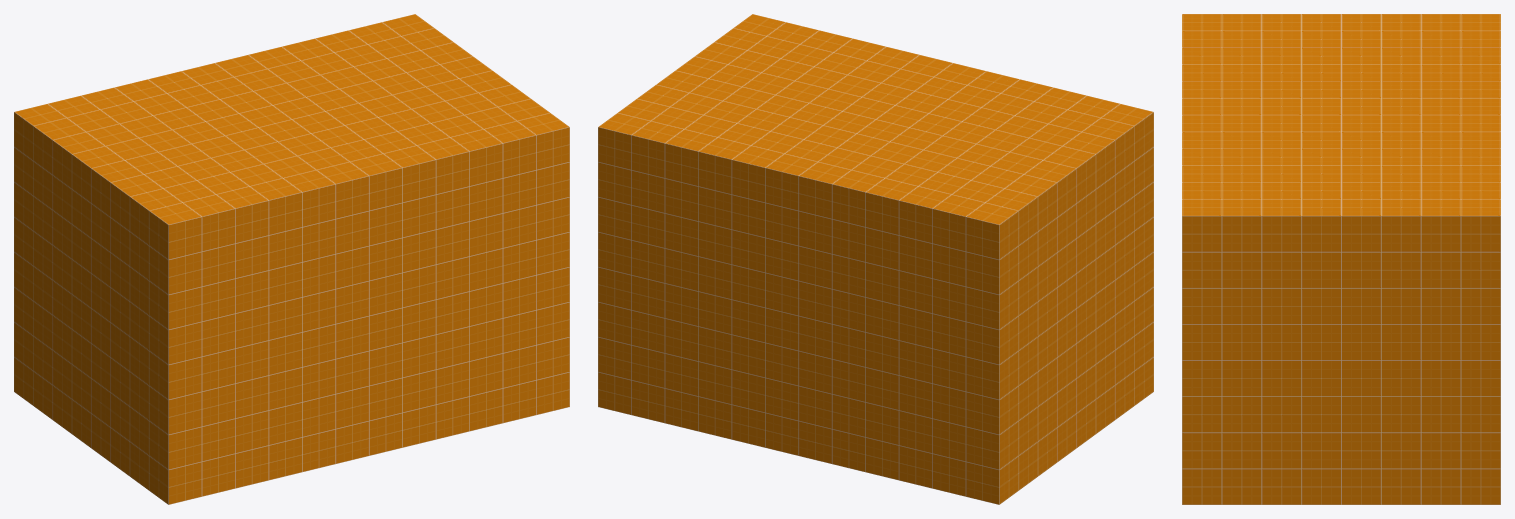
Rendered from Block_12x8x8.obj.
3 views of the same model, side by side, from view 1: azimuth 30°, elevation 25°; view 2: azimuth 150°, elevation 25°; view 3: azimuth 270°, elevation 25° (orthographic). The views are drawn at different scales.
Visible parts, largest first — view 1: Block_12x8x8_Cube.251; view 2: Block_12x8x8_Cube.251; view 3: Block_12x8x8_Cube.251.
Boxes of the visible parts, box(x1,y1,x2,y2) form: Block_12x8x8_Cube.251: box(14, 14, 569, 504); Block_12x8x8_Cube.251: box(598, 14, 1153, 504); Block_12x8x8_Cube.251: box(1182, 14, 1500, 504).
Bounding box in the file's own units: 12 × 8 × 8.
Materials: 1 (1 with a texture image).
